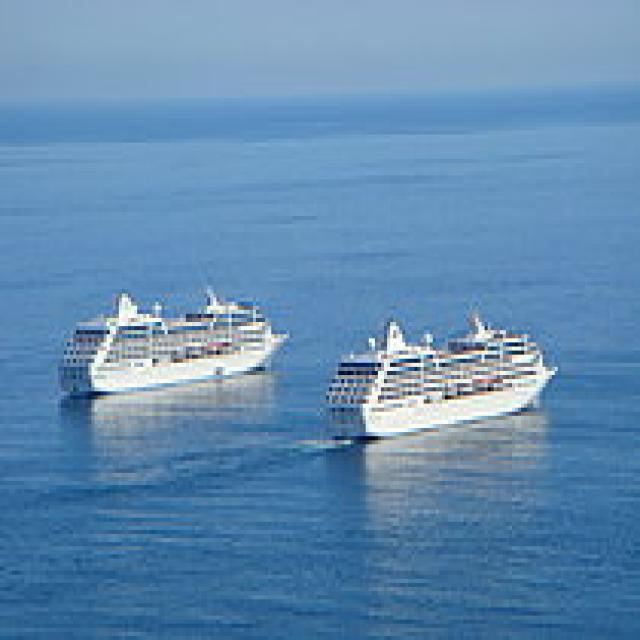Ship: (315, 307, 571, 454), (53, 287, 297, 405)
